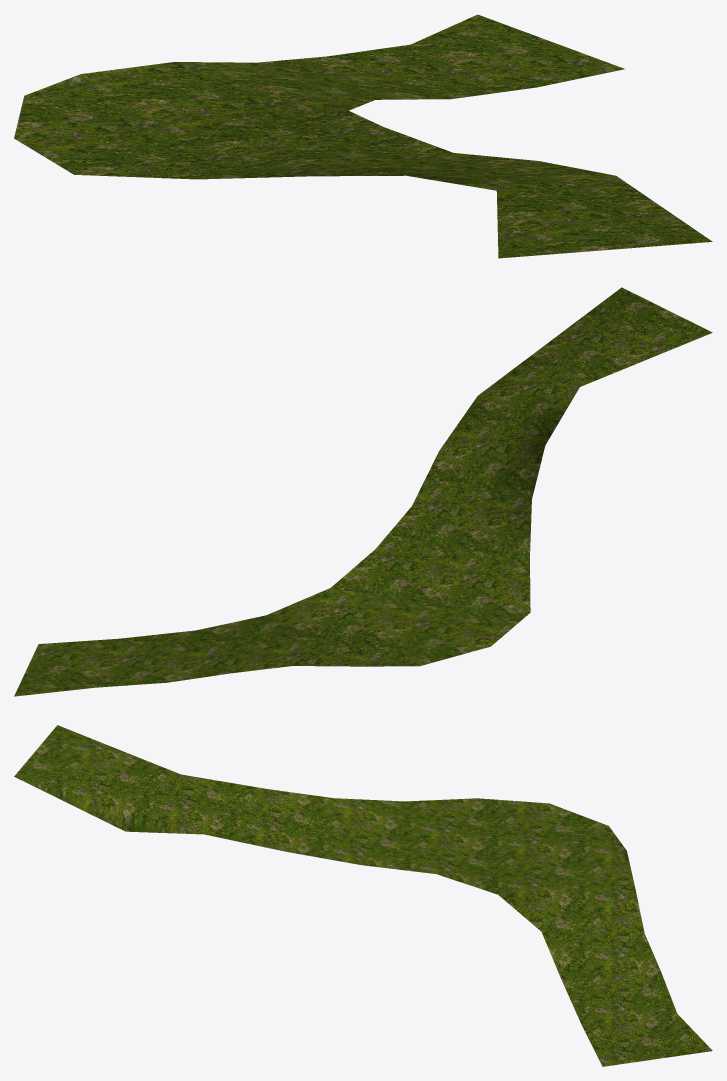
File: OVERHILL_A_01_OBJECT14.fbx
3 renders of one model, top to bottom at view 1: azimuth 30°, elevation 25°; view 2: azimuth 150°, elevation 25°; view 3: azimuth 270°, elevation 25°, orthographic. The views are drawn at different scales.
Parts seen in each view (by area): view 1: OVERHILL_A_01_OBJECT14; view 2: OVERHILL_A_01_OBJECT14; view 3: OVERHILL_A_01_OBJECT14.
Boxes of the visible parts, x1,y1,x2,y2 form: OVERHILL_A_01_OBJECT14: (14, 14, 712, 258); OVERHILL_A_01_OBJECT14: (14, 287, 712, 696); OVERHILL_A_01_OBJECT14: (14, 725, 712, 1066).
Bounding box in the file's own units: 103423 × 43574 × 160493.
1 material, 1 textured.
